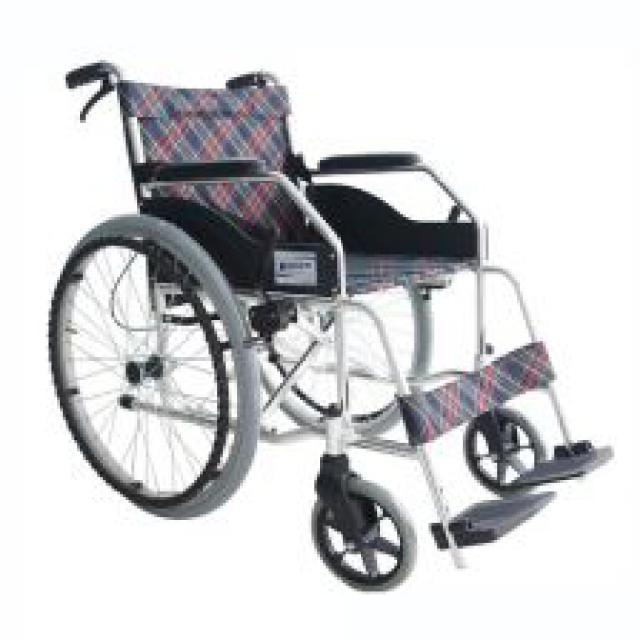wheelchair: (46, 51, 623, 588)
